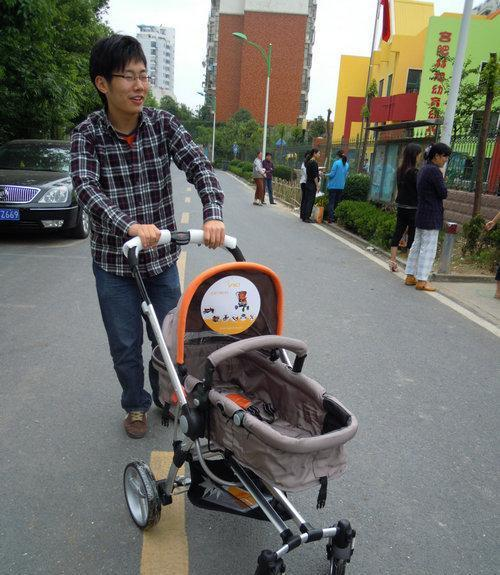person: (71, 35, 223, 437)
